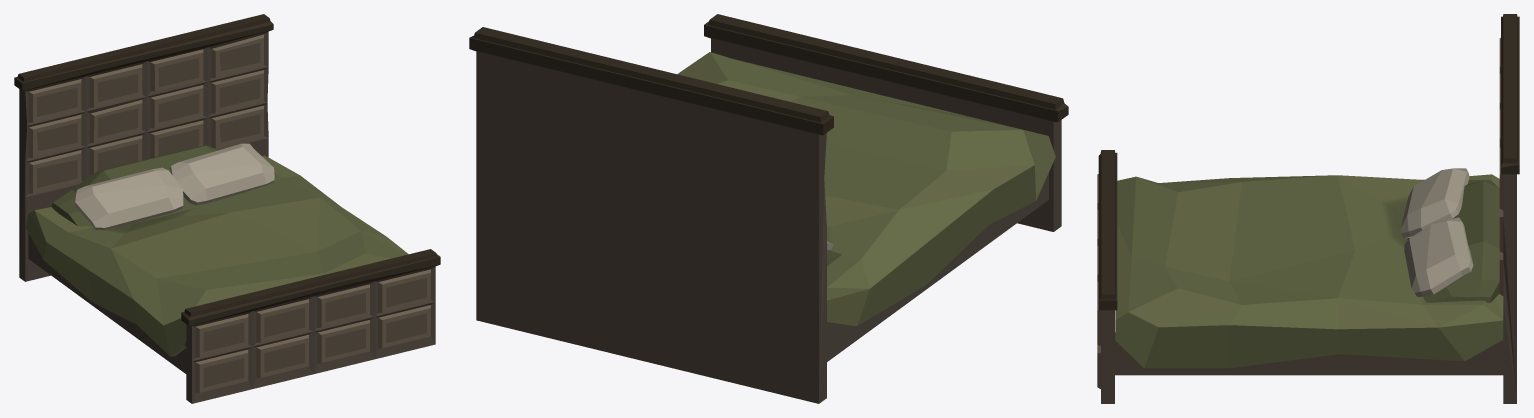
File: SM_Prop_Bed_Big_02.glb
3 renders of one model, left to right at view 1: azimuth 30°, elevation 25°; view 2: azimuth 150°, elevation 25°; view 3: azimuth 270°, elevation 25°, orthographic. The views are drawn at different scales.
Visible parts, largest first — view 1: SM_Prop_Bed_Big_02; view 2: SM_Prop_Bed_Big_02; view 3: SM_Prop_Bed_Big_02.
Part boxes in pixels (bbox=[...]): SM_Prop_Bed_Big_02: bbox=[14, 14, 440, 403]; SM_Prop_Bed_Big_02: bbox=[469, 14, 1068, 403]; SM_Prop_Bed_Big_02: bbox=[1097, 14, 1519, 403].
Bounding box in the file's own units: 2.36 × 1.82 × 2.83.
Materials: 1 (1 with a texture image).
